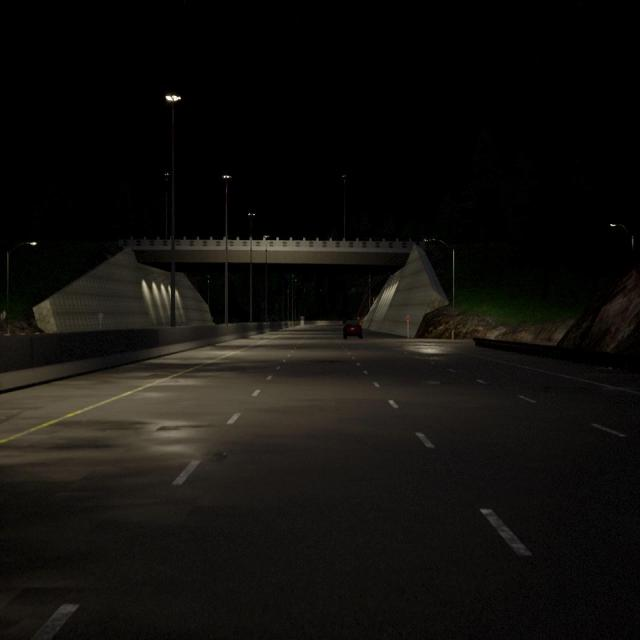Traffic_Signs: (0, 310, 6, 320), (405, 314, 411, 322), (98, 313, 103, 320), (357, 316, 360, 320)
Vehicle: (343, 320, 363, 340)
